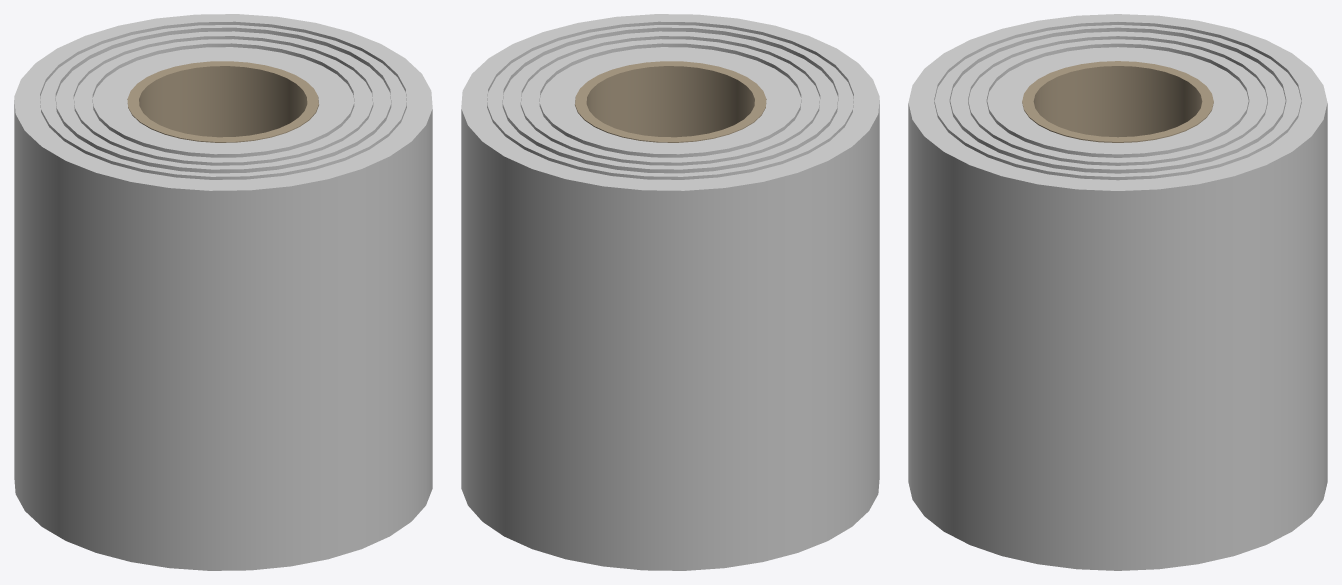
File: tolet.glb
The picture shows the model from 3 angles, left to right: view 1: azimuth 30°, elevation 25°; view 2: azimuth 150°, elevation 25°; view 3: azimuth 270°, elevation 25°; orthographic projection.
Parts seen in each view (by area): view 1: toilet; view 2: toilet; view 3: toilet.
Boxes of the visible parts, x1,y1,x2,y2 form: toilet: (14,14,432,570); toilet: (461,14,879,570); toilet: (908,14,1327,570).
Size of the model in its own units: 2 by 2.04 by 2.
